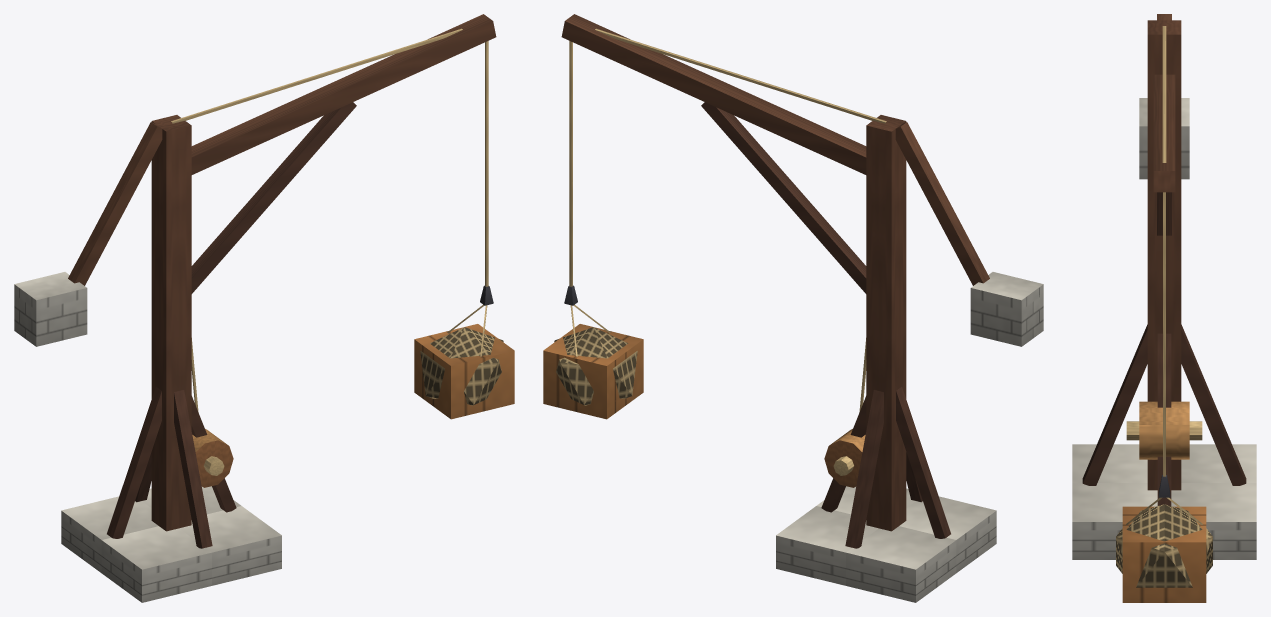
The model's file is dock_crane_01.glb.
3 renders of one model, left to right at view 1: azimuth 30°, elevation 25°; view 2: azimuth 150°, elevation 25°; view 3: azimuth 270°, elevation 25°, orthographic. The views are drawn at different scales.
Parts seen in each view (by area): view 1: dock_crane_01; view 2: dock_crane_01; view 3: dock_crane_01.
Part boxes in pixels (bbox=[...]): dock_crane_01: bbox=[14, 14, 514, 602]; dock_crane_01: bbox=[543, 14, 1043, 602]; dock_crane_01: bbox=[1072, 14, 1256, 602].
Bounding box in the file's own units: 7.51 × 6.93 × 2.2.
Materials: 1 (1 with a texture image).
